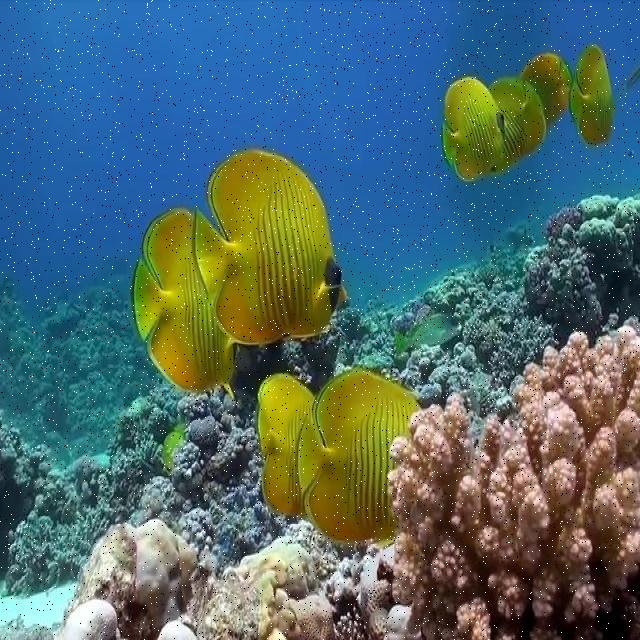fish: (194, 151, 343, 347), (296, 369, 420, 543), (133, 206, 235, 401), (257, 374, 317, 516), (441, 78, 505, 181), (487, 76, 546, 175), (569, 45, 611, 145), (518, 53, 572, 128), (397, 311, 460, 356)
reefs: (385, 329, 620, 639)
